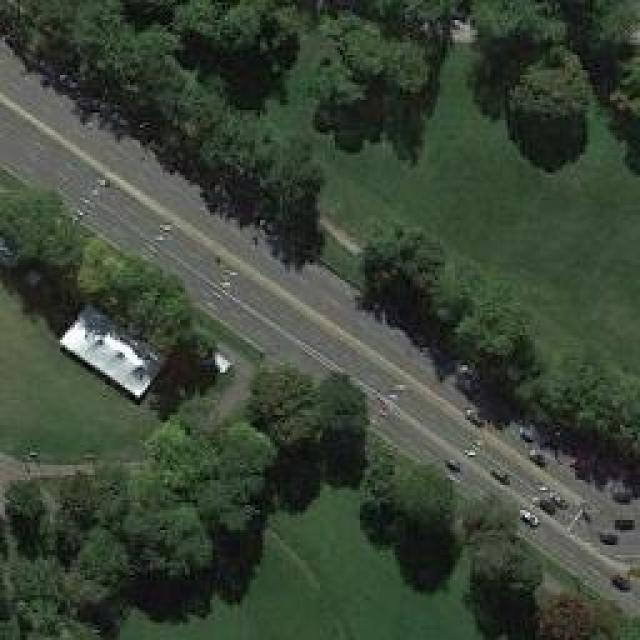Forest: (0, 0, 640, 638)
Highway: (0, 36, 640, 629)
